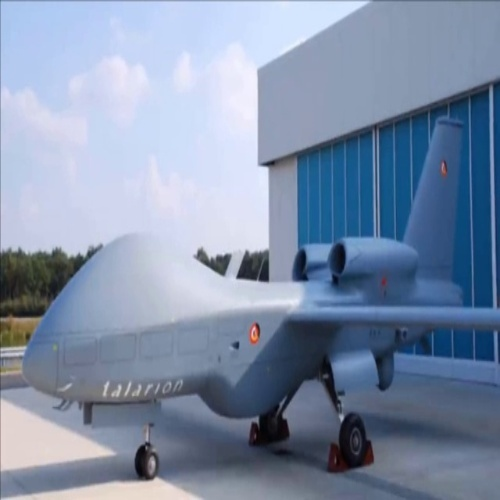uav: (19, 110, 496, 485)
